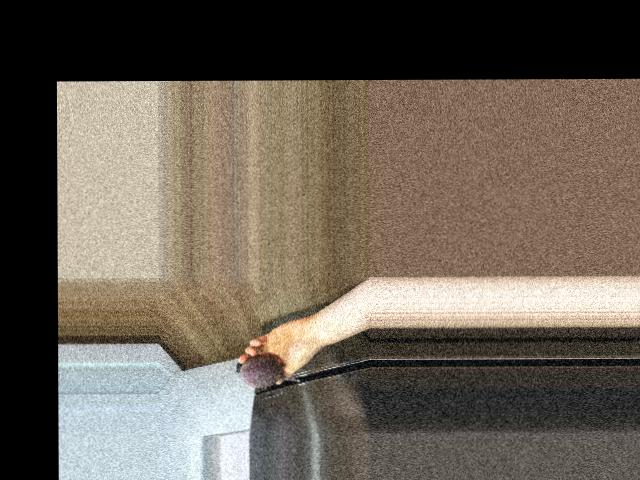beet: (235, 356, 299, 387)
